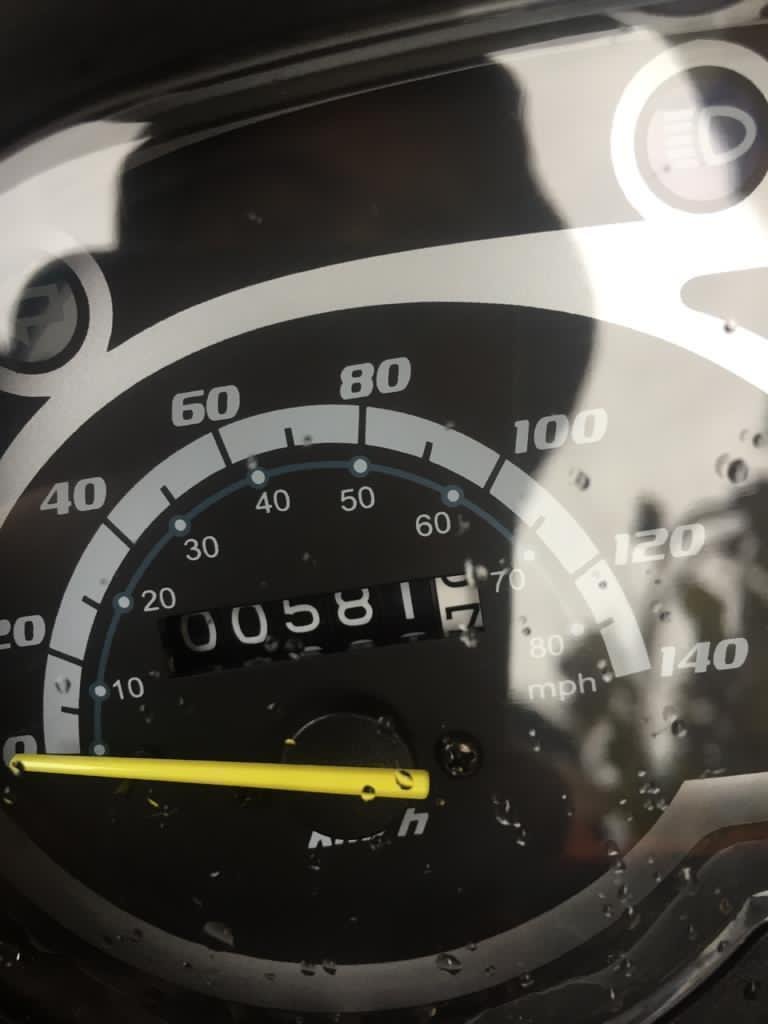0: (229, 599, 273, 650), (179, 606, 221, 655), (158, 584, 176, 610)
1: (392, 579, 423, 631)
5: (283, 587, 323, 639)
7: (440, 602, 485, 657)
8: (334, 581, 376, 632)
odometer: (154, 567, 490, 681)
